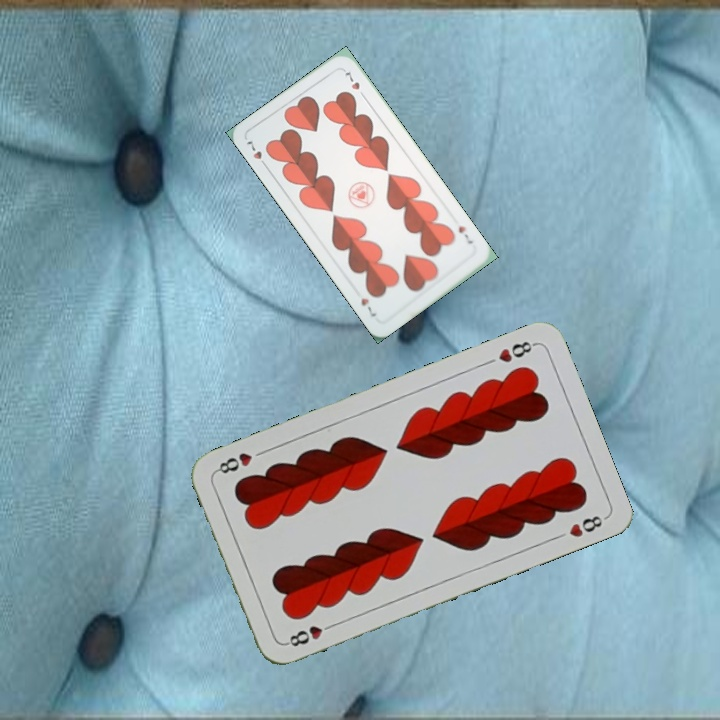H7: (242, 137, 271, 171), (454, 222, 475, 247)
H8: (281, 619, 338, 650), (494, 337, 539, 365)
